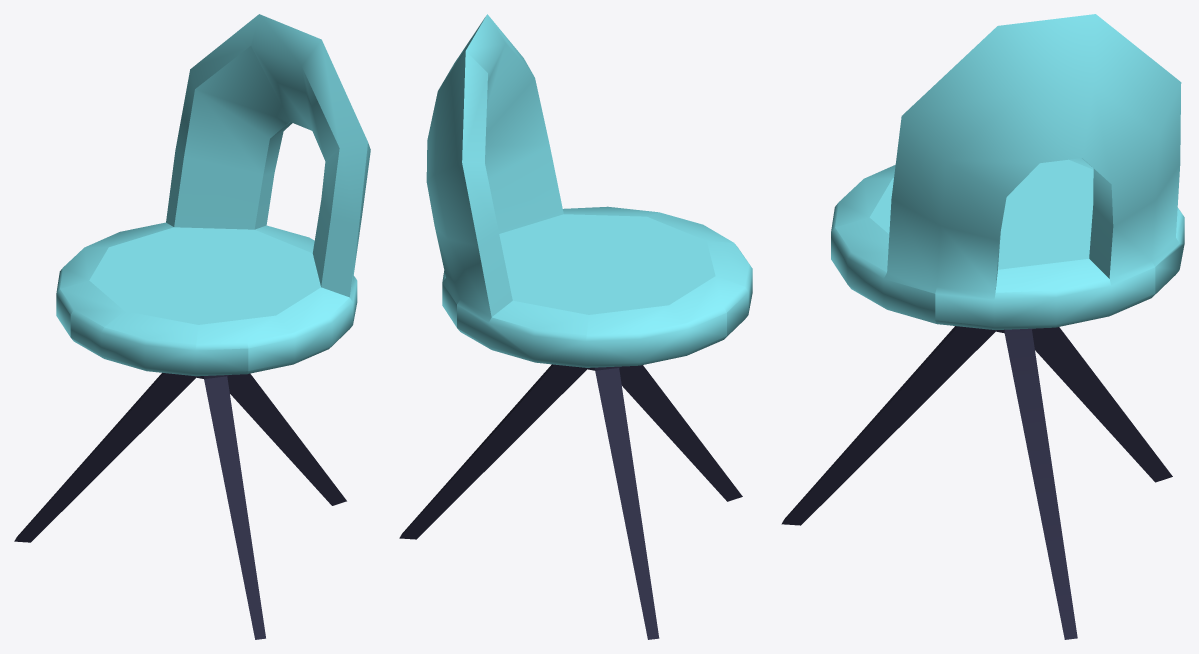
The model's file is CHAIR.glb.
3 views of the same model, side by side, from view 1: azimuth 30°, elevation 25°; view 2: azimuth 150°, elevation 25°; view 3: azimuth 270°, elevation 25° (orthographic). The views are drawn at different scales.
Parts seen in each view (by area): view 1: CHAIR; view 2: CHAIR; view 3: CHAIR.
Boxes of the visible parts, bbox=[...] form: CHAIR: bbox=[14, 14, 370, 639]; CHAIR: bbox=[399, 14, 752, 639]; CHAIR: bbox=[781, 14, 1184, 639].
Size of the model in its own units: 1.11 by 1.79 by 1.12.
